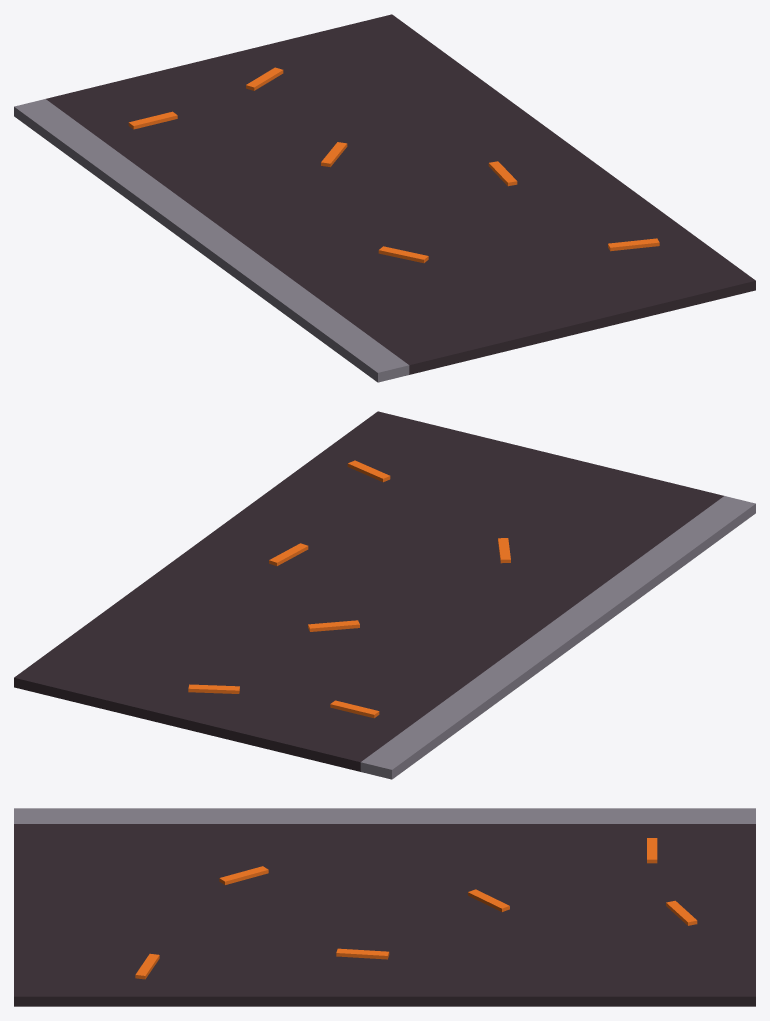
Rendered from env_r3_verge.glb.
3 views of the same model, one above another, from view 1: azimuth 30°, elevation 25°; view 2: azimuth 150°, elevation 25°; view 3: azimuth 270°, elevation 25° (orthographic).
Visible parts, largest first — view 1: env_r3_verge; view 2: env_r3_verge; view 3: env_r3_verge.
Part boxes in pixels (x1,y1,x2,y2): env_r3_verge: [14, 14, 755, 382]; env_r3_verge: [14, 411, 755, 779]; env_r3_verge: [14, 808, 755, 1006].
Size of the model in its own units: 6 by 0.2 by 10.
Materials: 1 (1 with a texture image).
